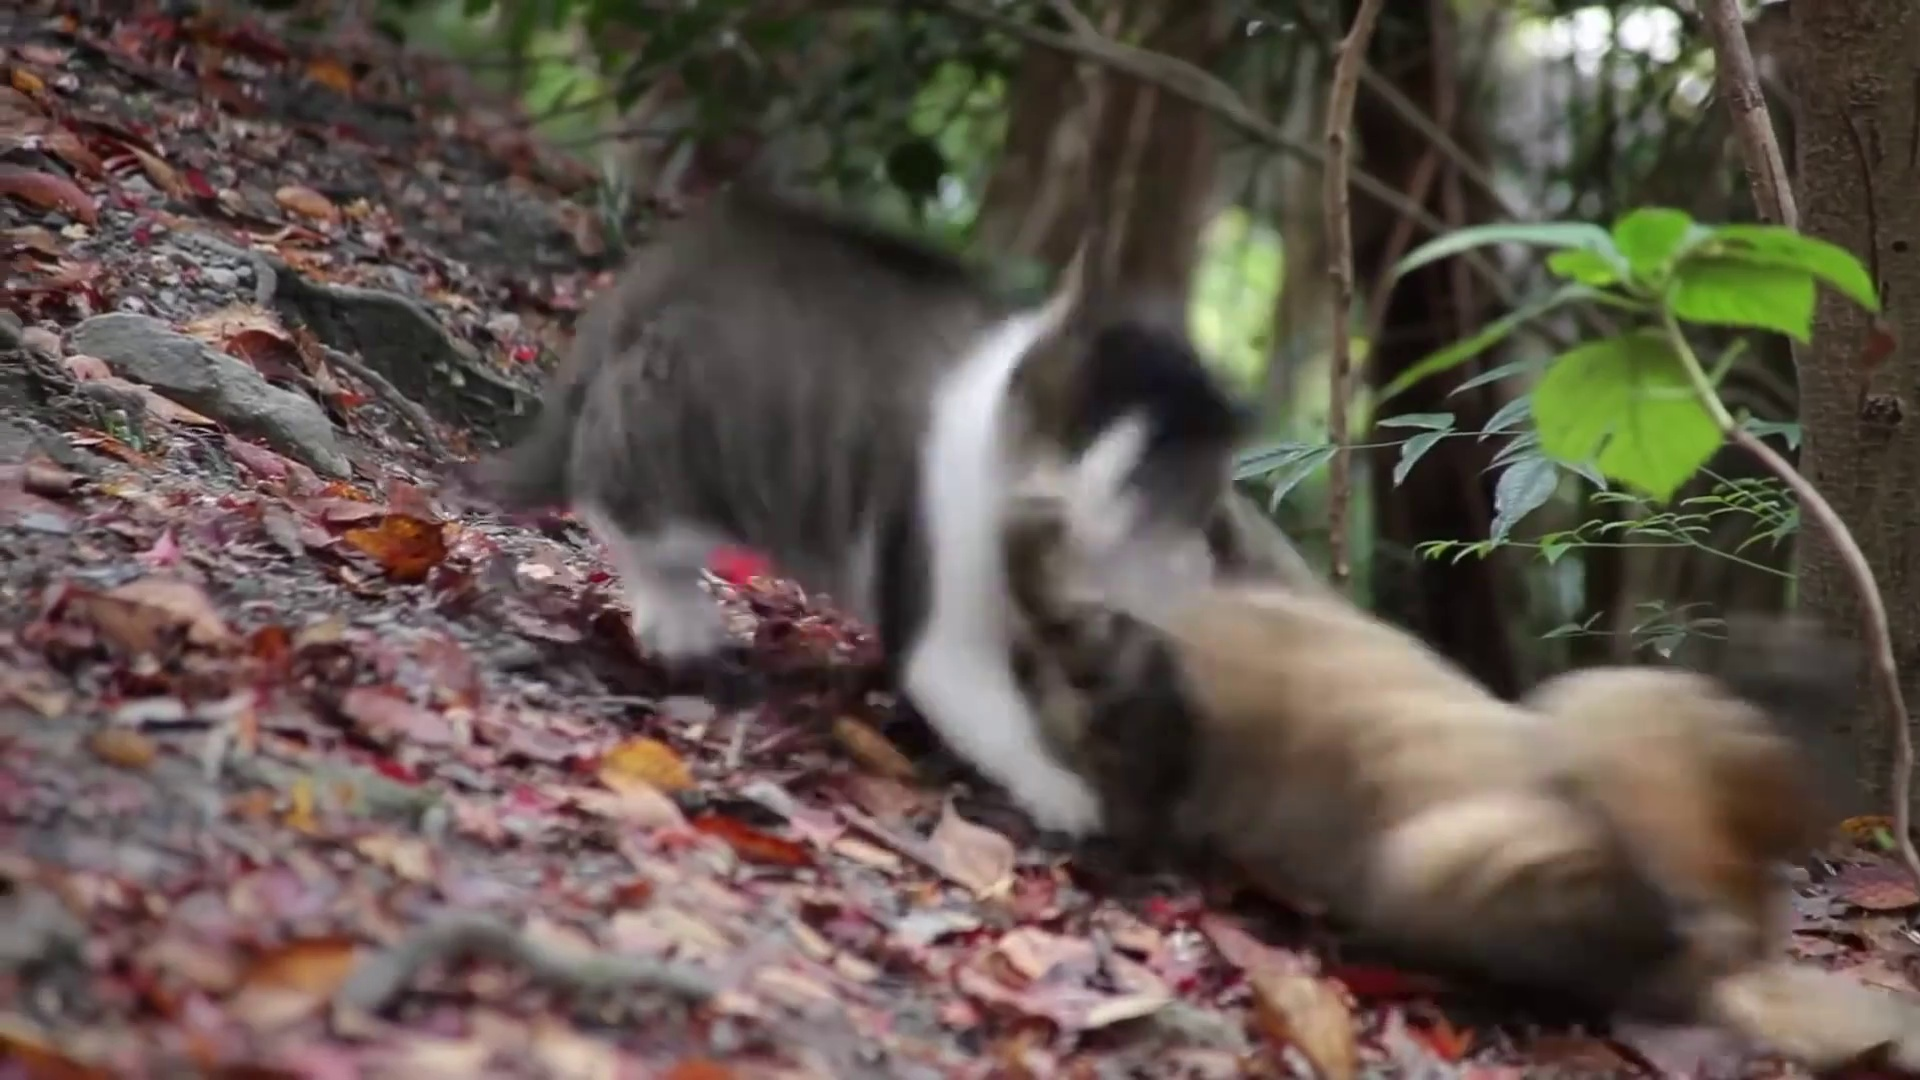black-white: (476, 199, 1247, 836)
pure black: (1004, 588, 1796, 977)
